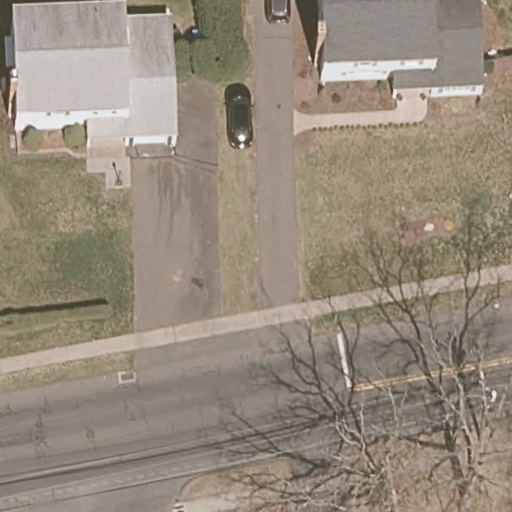DT: (469, 364, 499, 419)
